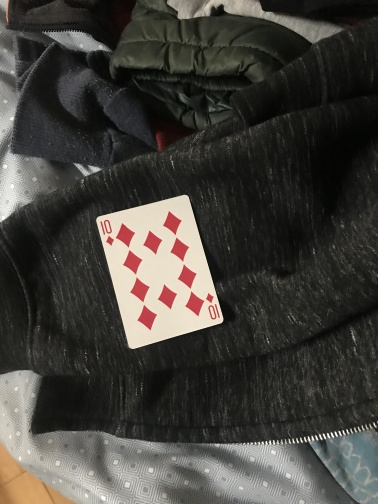ten: (95, 194, 225, 350)
